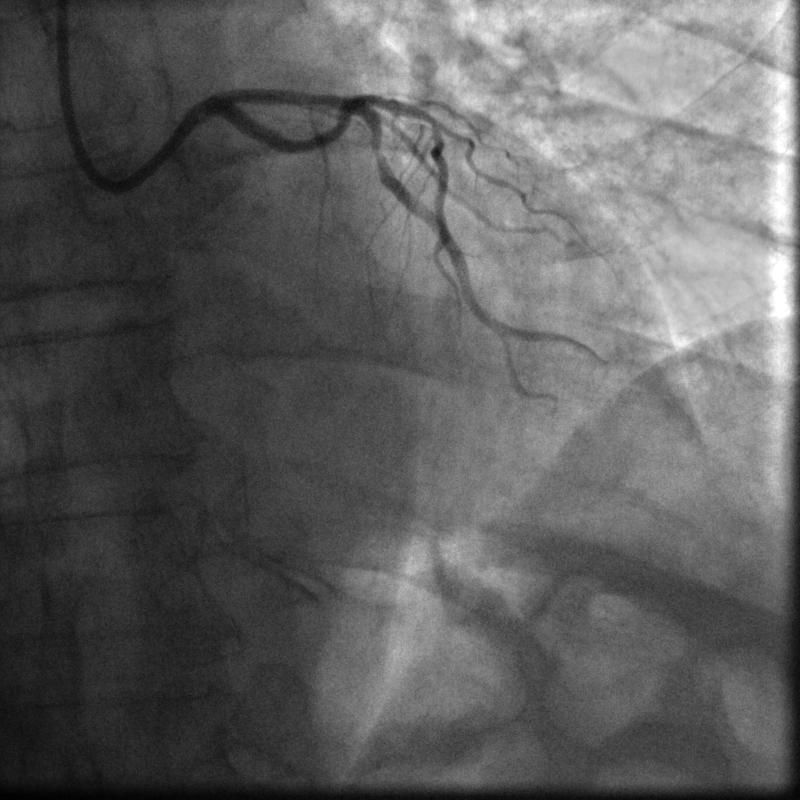Stenosis: (371, 140, 385, 162)
